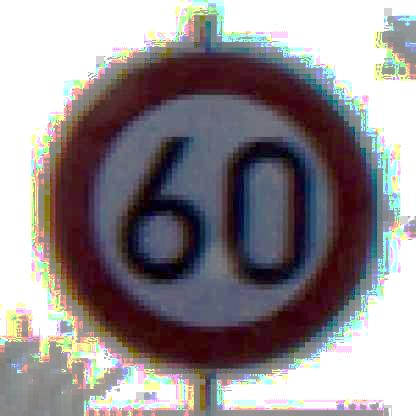Speed Limit -60-: (34, 41, 385, 381)
